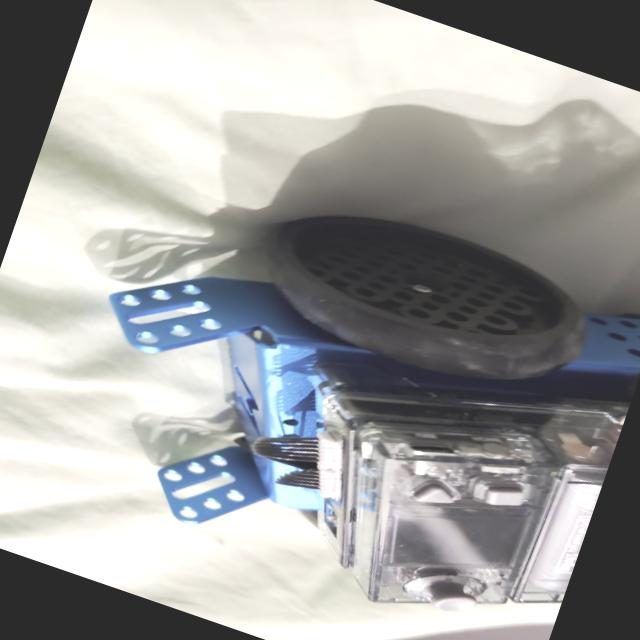mbot-detection: (27, 109, 640, 640)
